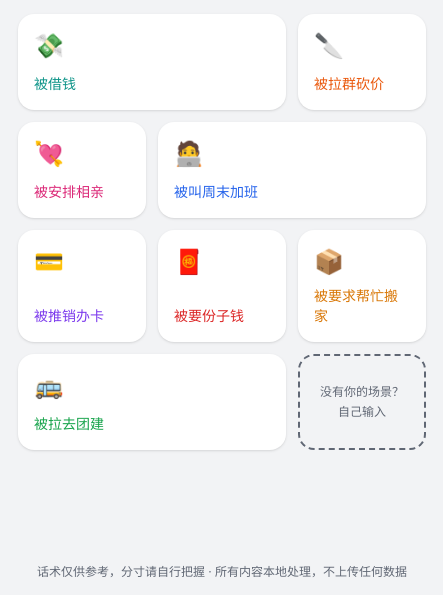
Test case: App › 切换场景后话术跟着换
Click the button "💸 被借钱". click: (55,84)
box: [18,14,286,110]
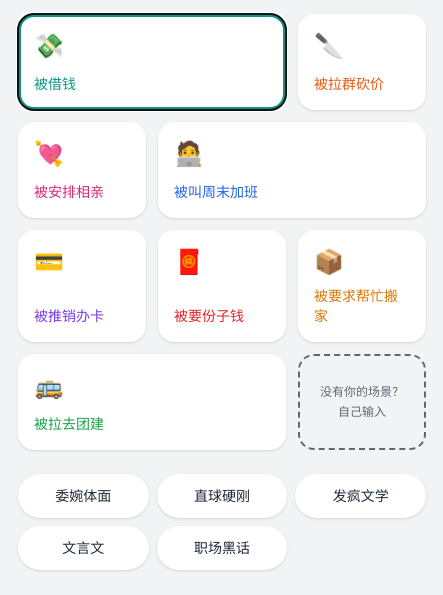
Click the button "直球硬刚". click: (222,496)
box: [157,474,287,518]
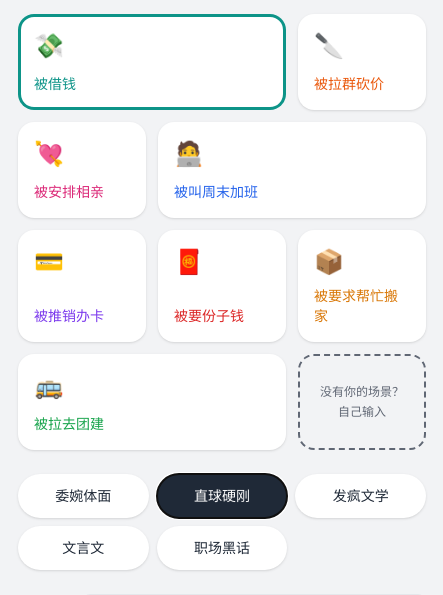
Click the button "🚌 被拉去团建". click: (69,424)
box: [18,354,286,450]
(page scrolled)
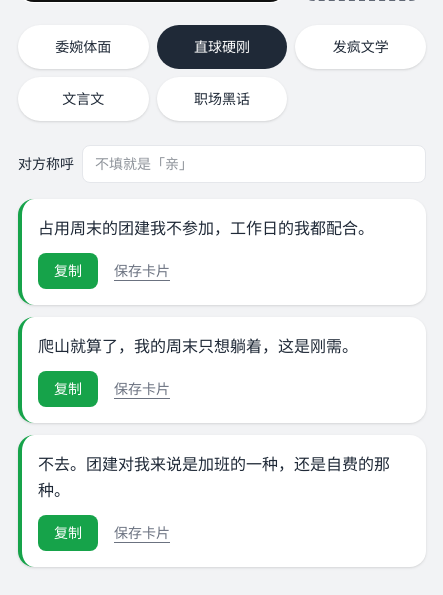
Check: the text "占用周末的团建我不参加，工作日的我都配合。" is shown, box [38,215,410,241]
